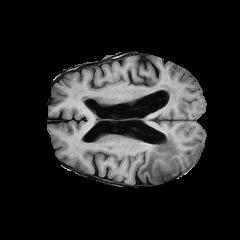glioma: (140, 132, 180, 179)
